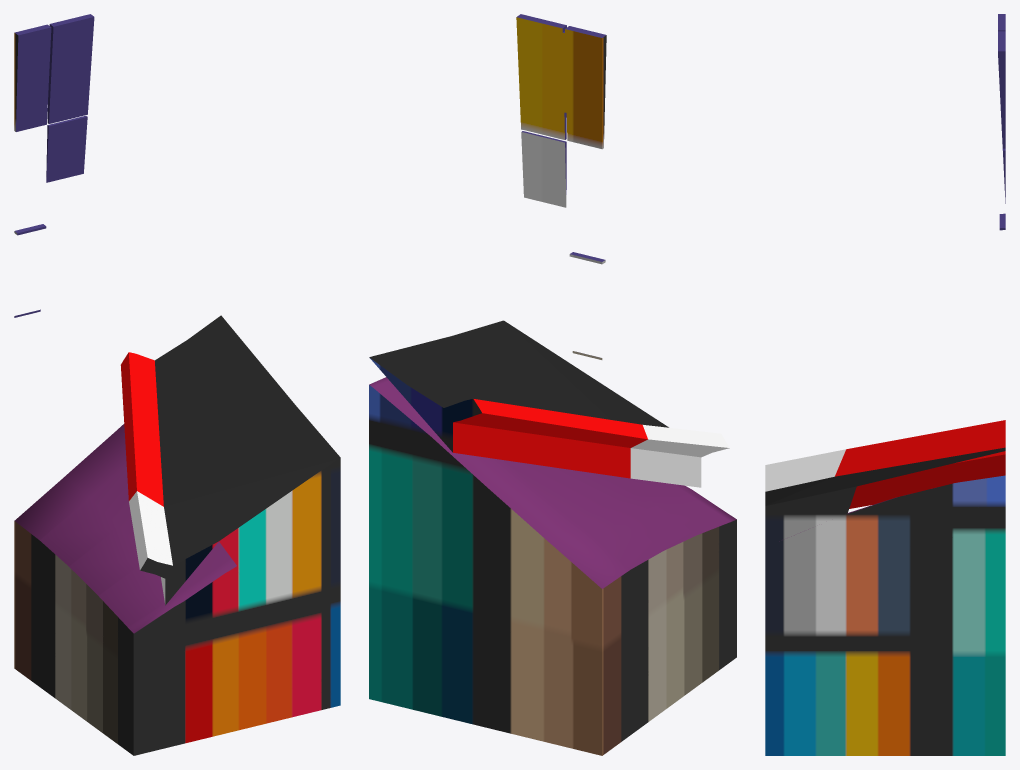
File: tile_13_0_3.gltf
The picture shows the model from 3 angles, left to right: view 1: azimuth 30°, elevation 25°; view 2: azimuth 150°, elevation 25°; view 3: azimuth 270°, elevation 25°; orthographic projection. The views are drawn at different scales.
Parts seen in each view (by area): view 1: Plane, track.160, Cube.001; view 2: Plane, track.160, Cube.001; view 3: Plane, track.160, Cube.001.
Part boxes in pixels (left/top/right/bottom): Plane: left=14, top=424, right=340, bottom=755; track.160: left=120, top=315, right=340, bottom=705; Cube.001: left=14, top=14, right=94, bottom=317; Plane: left=369, top=377, right=736, bottom=755; track.160: left=369, top=320, right=729, bottom=487; Cube.001: left=516, top=14, right=606, bottom=359; Plane: left=765, top=475, right=1005, bottom=755; track.160: left=765, top=420, right=1005, bottom=547; Cube.001: left=998, top=14, right=1005, bottom=230.
Bounding box in the file's own units: 8 × 23.52 × 8.
2 materials, 2 textured.
